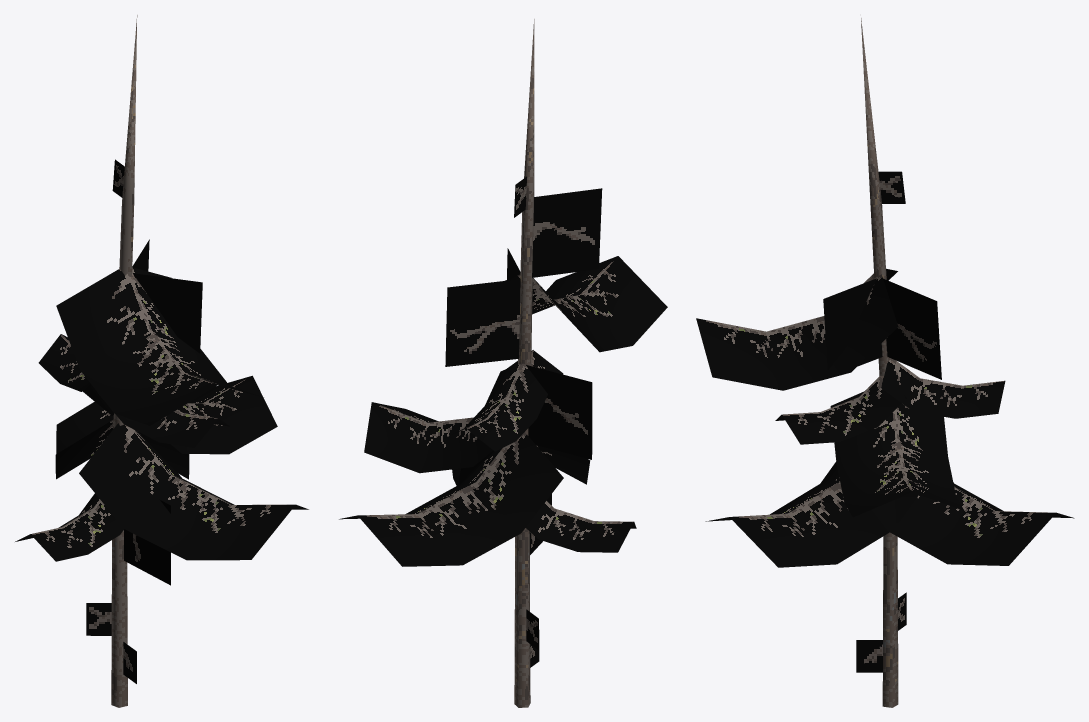
File: DeadSpruce.glb
3 renders of one model, left to right at view 1: azimuth 30°, elevation 25°; view 2: azimuth 150°, elevation 25°; view 3: azimuth 270°, elevation 25°, orthographic. The views are drawn at different scales.
Visible parts, largest first — view 1: DeadSpruce; view 2: DeadSpruce; view 3: DeadSpruce.
Part boxes in pixels (bbox=[...]): DeadSpruce: bbox=[15, 15, 308, 707]; DeadSpruce: bbox=[339, 19, 667, 707]; DeadSpruce: bbox=[696, 18, 1074, 707].
Bounding box in the file's own units: 4.06 × 11.04 × 5.48.
Materials: 2 (2 with a texture image).
